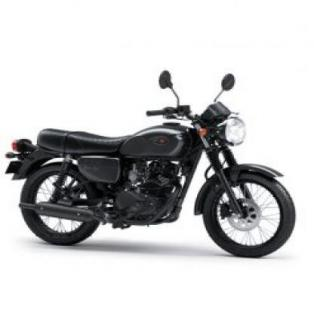Motocicleta: (1, 66, 303, 259)
